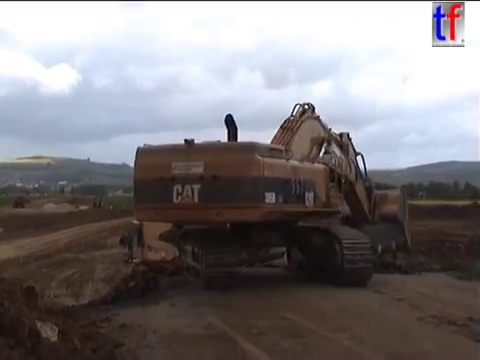excavator: (129, 98, 416, 289), (117, 215, 287, 291), (75, 197, 105, 213)
truck: (11, 196, 25, 210), (23, 194, 33, 205)
